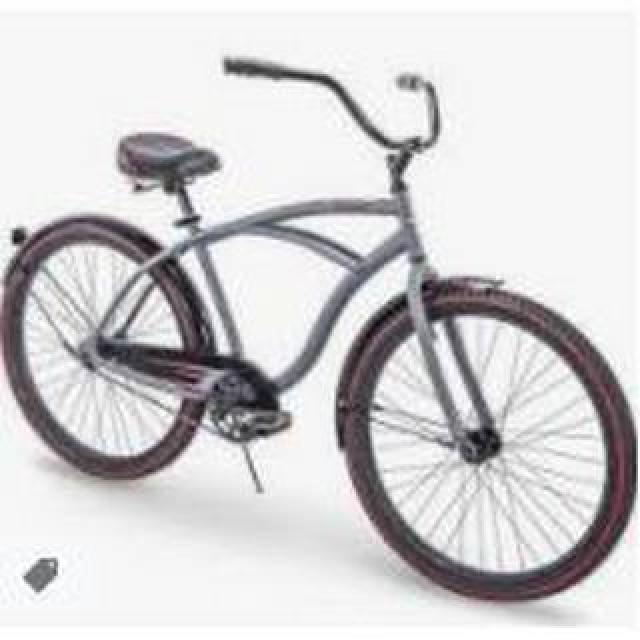Person: (7, 55, 633, 603)
